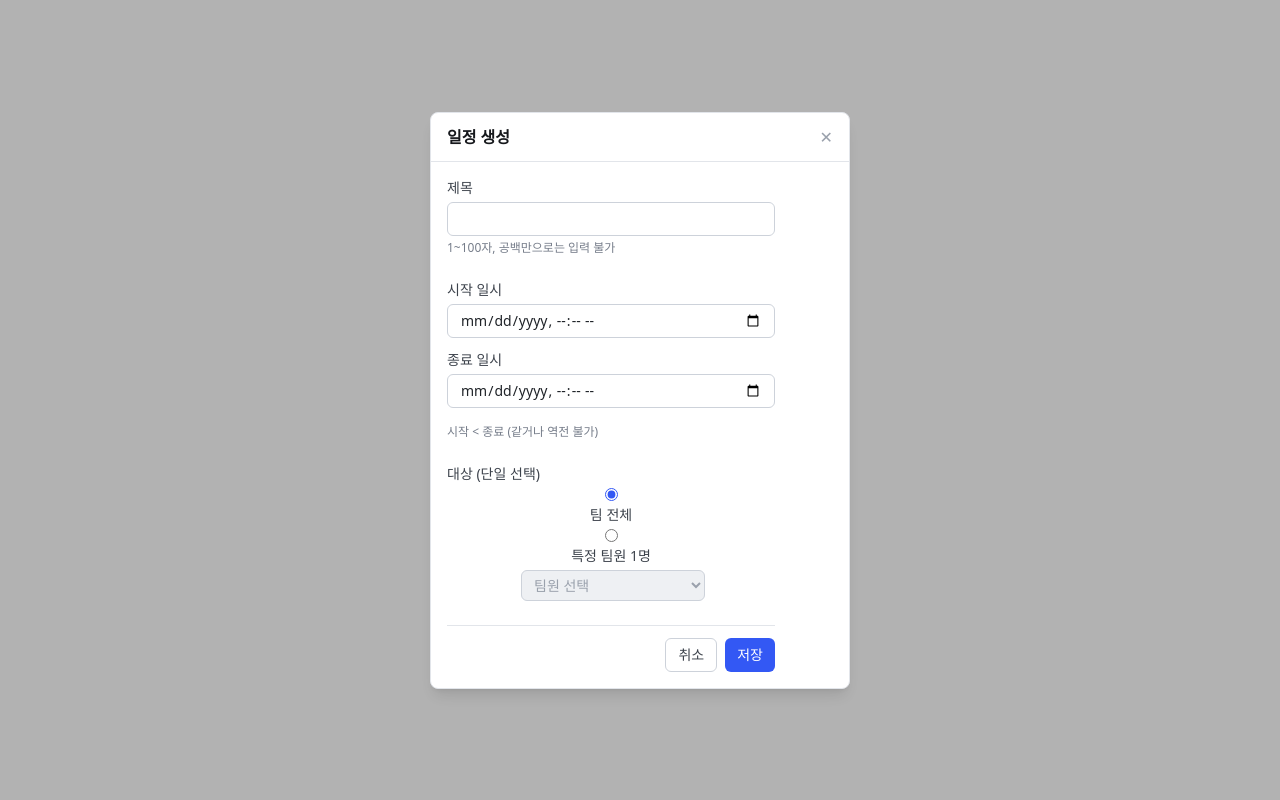
Test: ScheduleForm › 시작 일시가 종료 일시보다 앞서지 않으면 저장을 차단함(§8)
Type "팀 회의" into the field labelled "제목" at (611, 218), box [447, 202, 775, 236]
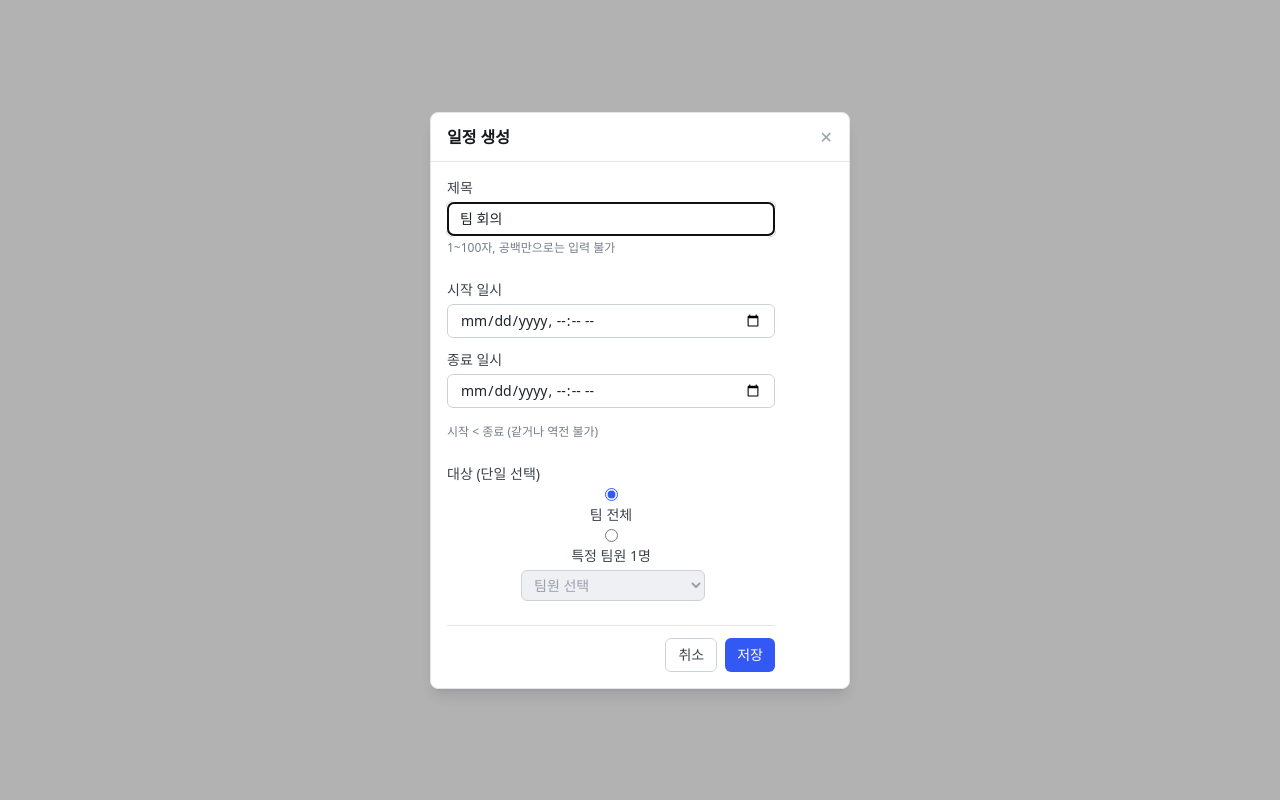
Type "2026-08-01T15:00" into the field labelled "시작 일시" at (611, 320), box [447, 304, 775, 338]
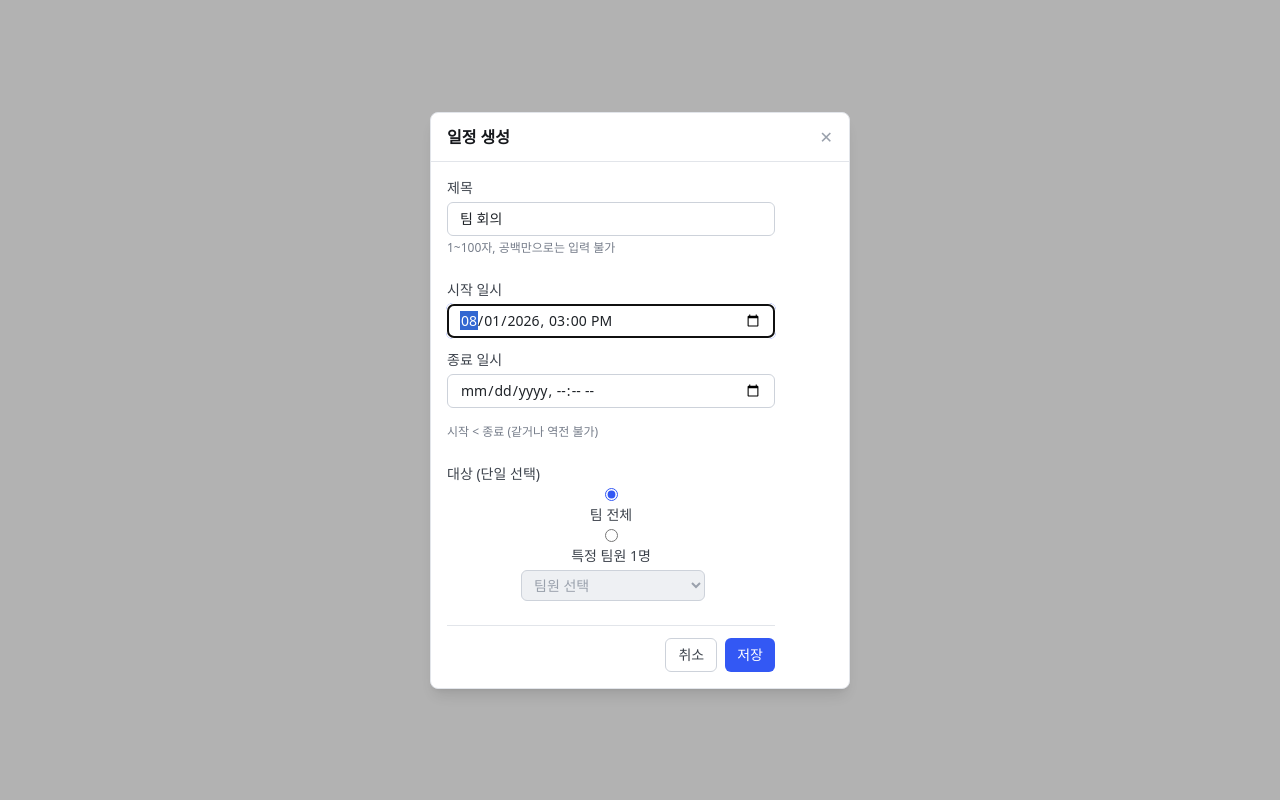
Type "2026-08-01T14:00" into the field labelled "종료 일시" at (611, 390), box [447, 374, 775, 408]
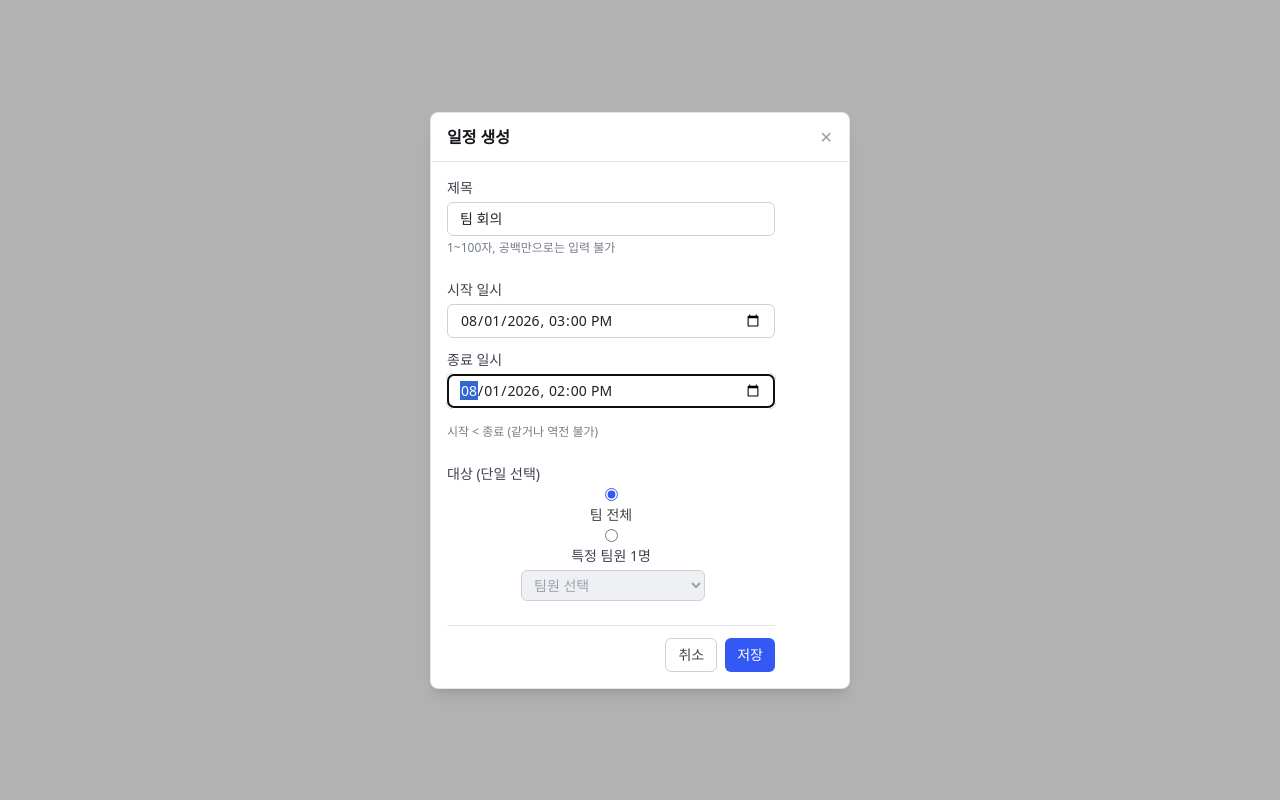
Click the button "저장" at (750, 654), box [725, 638, 775, 672]
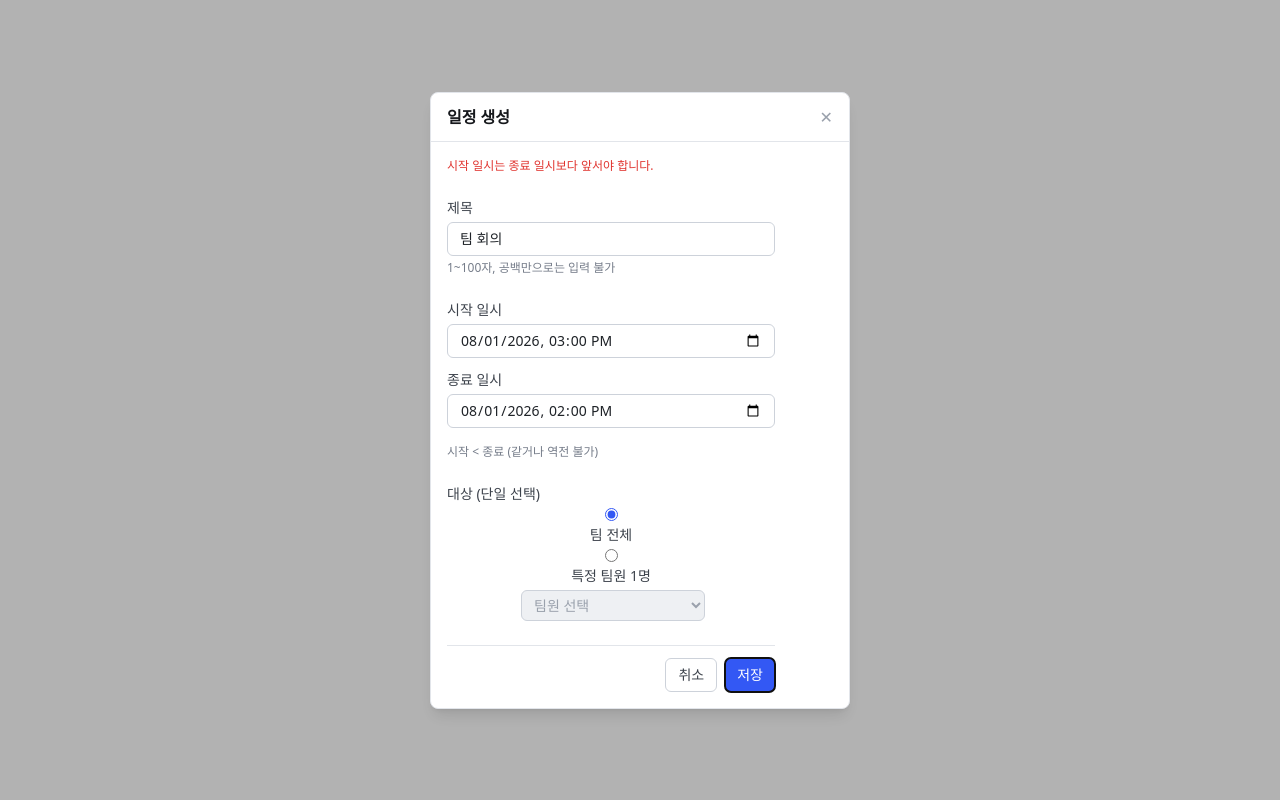
Result: the text "시작 일시는 종료 일시보다 앞서야 합니다." is shown at [447, 156, 654, 174]
